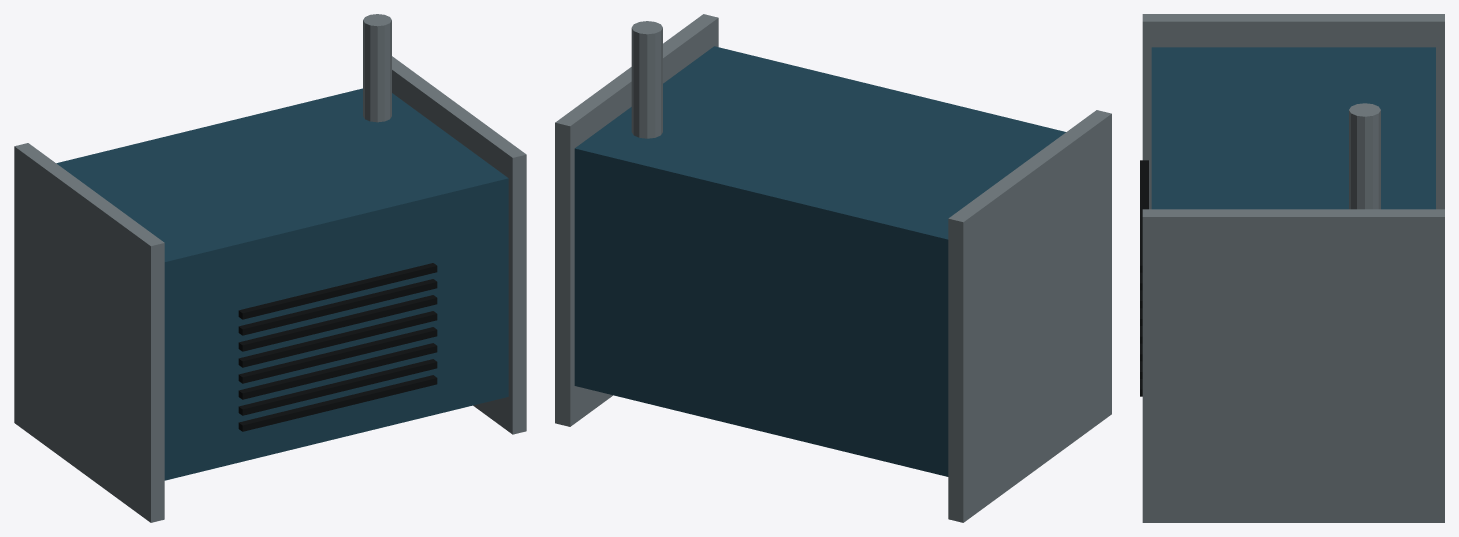
File: DieselGenerator.obj
3 renders of one model, left to right at view 1: azimuth 30°, elevation 25°; view 2: azimuth 150°, elevation 25°; view 3: azimuth 270°, elevation 25°, orthographic. The views are drawn at different scales.
Parts seen in each view (by area): view 1: generator_0, generator_1, generator_2; view 2: generator_0, generator_1; view 3: generator_1, generator_0, generator_2.
Boxes of the visible parts, x1,y1,x2,y2 form: generator_0: (56,88,508,480); generator_1: (14,14,526,522); generator_2: (238,263,437,431); generator_0: (574,46,1065,476); generator_1: (555,14,1111,522); generator_1: (1142,14,1444,522); generator_0: (1151,47,1435,209); generator_2: (1140,160,1148,396).
Bounding box in the file's own units: 1.35 × 1.2 × 0.8575.
